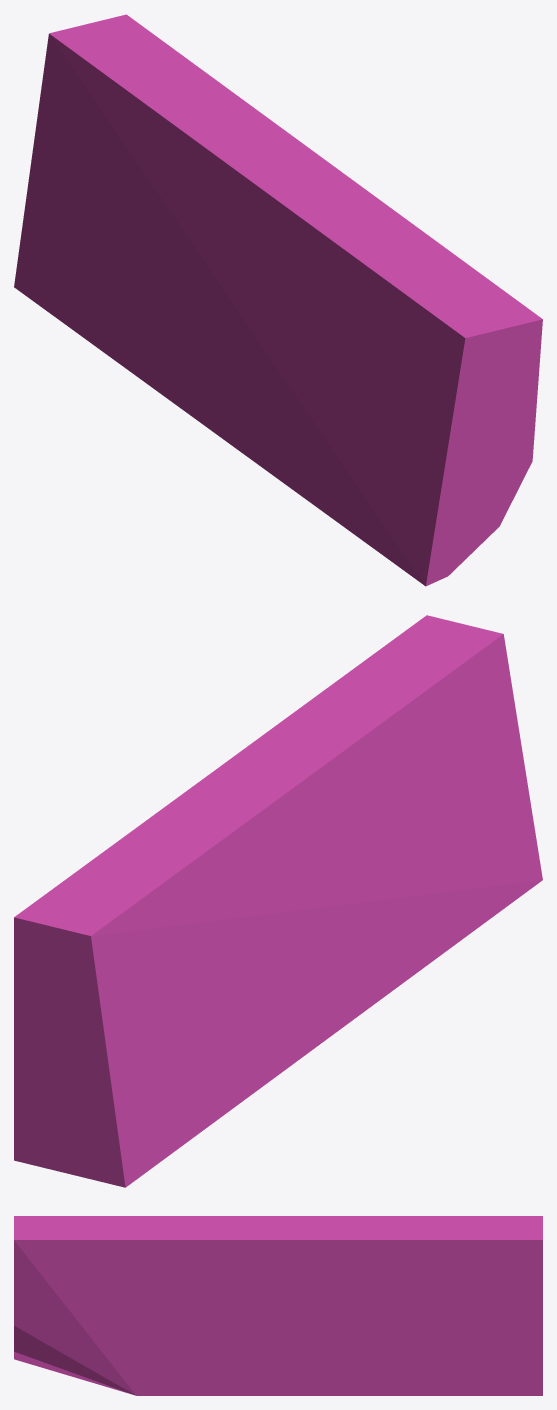
3 views of the same model, one above another, from view 1: azimuth 30°, elevation 25°; view 2: azimuth 150°, elevation 25°; view 3: azimuth 270°, elevation 25° (orthographic). The views are drawn at different scales.
Size of the model in its own units: 0.453 by 0.9062 by 2.79.
